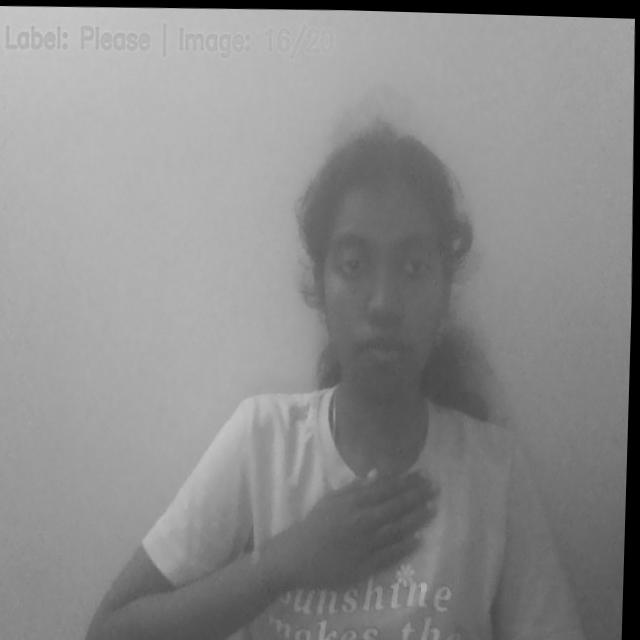Please: (259, 459, 448, 595)
